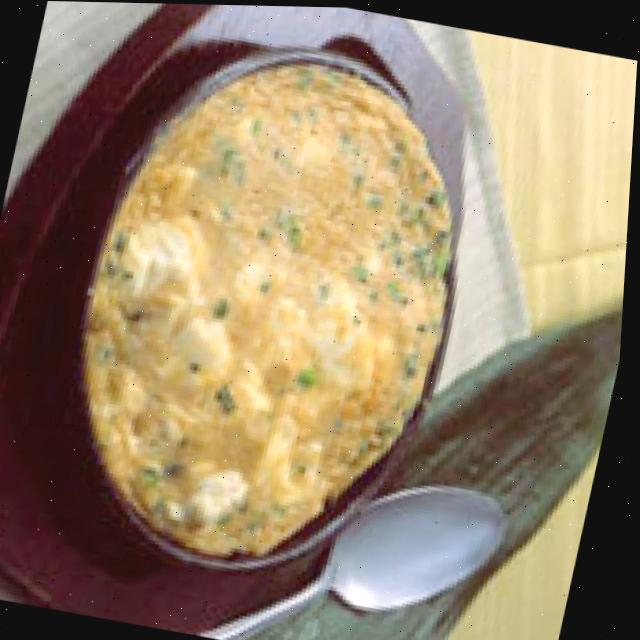豆腐料理: (0, 2, 516, 606)
